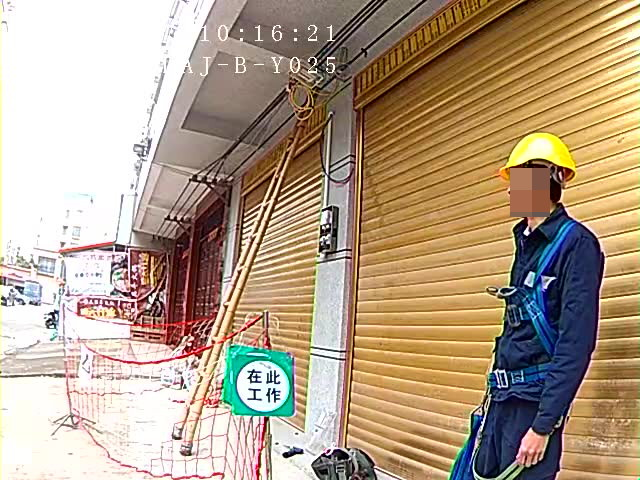downsuit: (459, 392, 570, 480)
halt: (503, 134, 577, 217)
hand: (515, 426, 547, 466)
inear: (523, 165, 549, 207)
person: (445, 130, 609, 480)
safebelt: (449, 217, 580, 480)
upsuit: (491, 213, 603, 398)
worksign: (225, 347, 297, 417)
